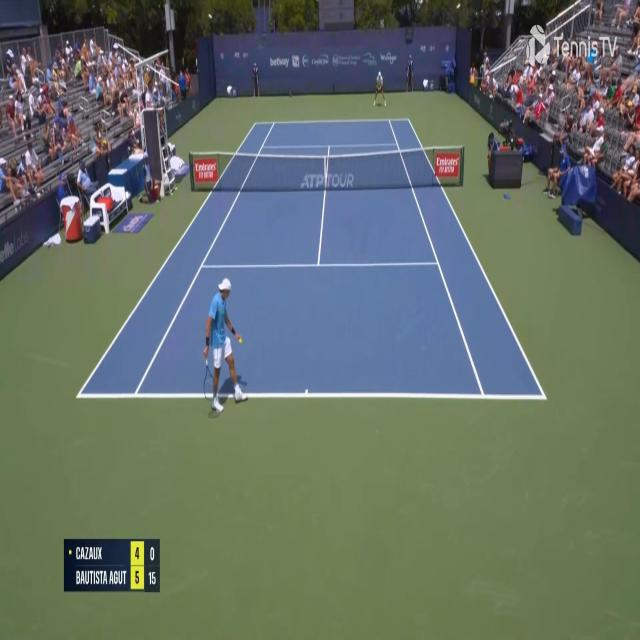tennis-player: (202, 274, 248, 419), (372, 70, 387, 107)
